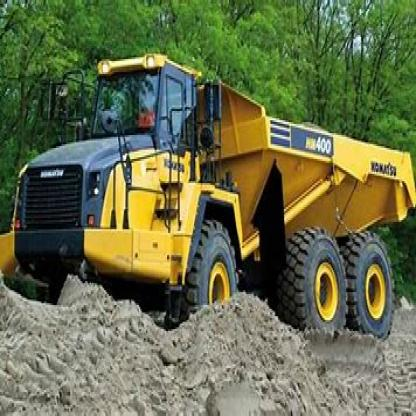dump_truck: (5, 44, 415, 354)
